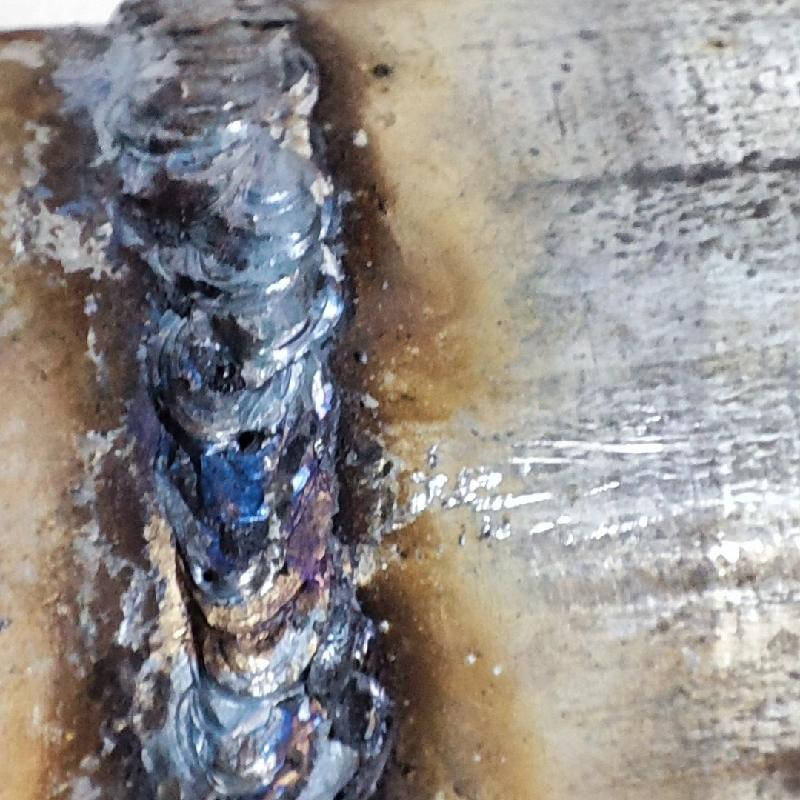Surface_pores: (227, 420, 271, 467), (193, 560, 234, 599), (202, 526, 248, 559)
